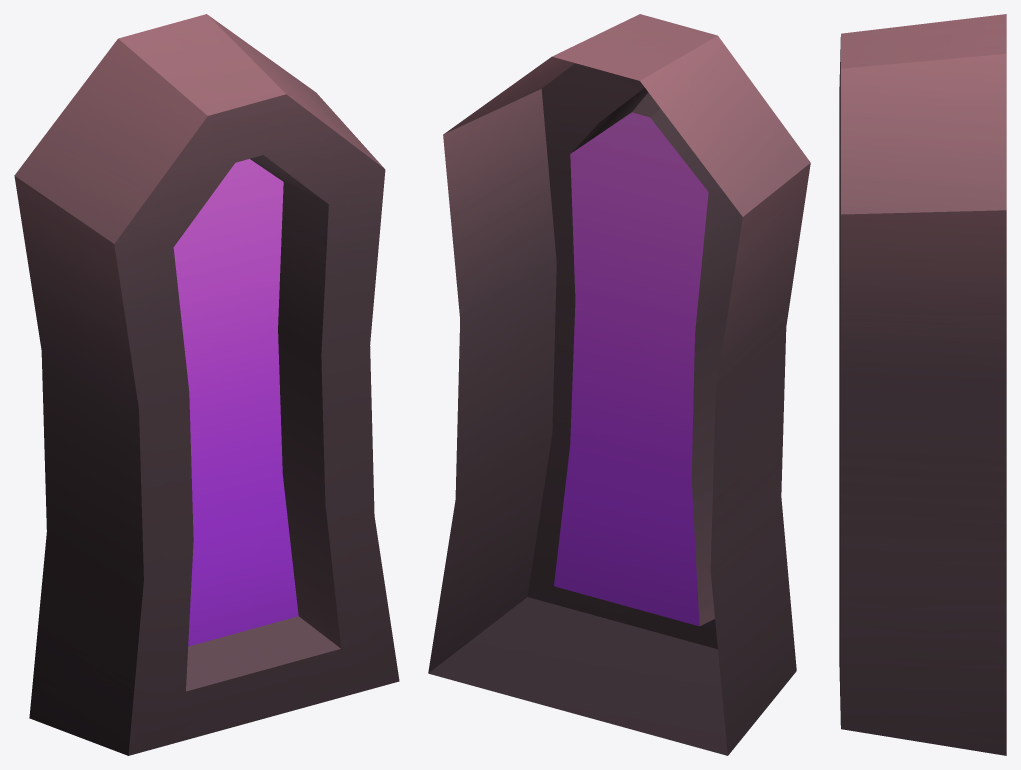
The model's file is undead_window.fbx.
3 views of the same model, side by side, from view 1: azimuth 30°, elevation 25°; view 2: azimuth 150°, elevation 25°; view 3: azimuth 270°, elevation 25° (orthographic).
Parts seen in each view (by area): view 1: undead_window; view 2: undead_window; view 3: undead_window.
Part boxes in pixels (x1,y1,x2,y2): undead_window: [14, 14, 399, 755]; undead_window: [428, 14, 810, 755]; undead_window: [839, 14, 1006, 755].
Size of the model in its own units: 0.9922 by 1.98 by 0.4612.
